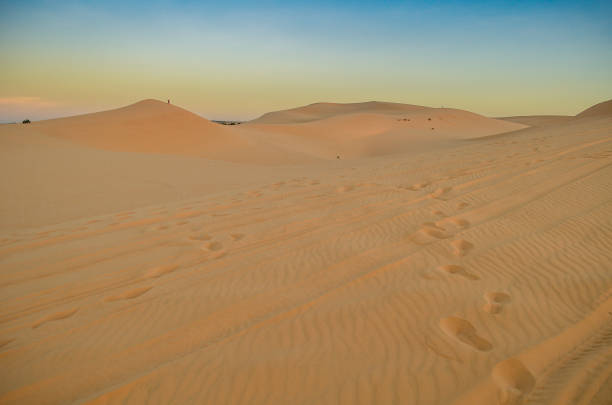human_footprint: (491, 358, 535, 404), (439, 316, 492, 350), (412, 212, 469, 243), (423, 336, 462, 362), (32, 308, 78, 328), (411, 222, 451, 244), (104, 286, 152, 301), (436, 264, 479, 280), (435, 216, 470, 235), (483, 292, 510, 313), (437, 216, 469, 231), (145, 264, 178, 277), (202, 241, 226, 258), (450, 239, 473, 256), (429, 187, 452, 200), (402, 181, 429, 190), (202, 241, 222, 251), (114, 211, 135, 220), (188, 233, 211, 240), (0, 338, 14, 349), (336, 184, 354, 192), (211, 250, 226, 259), (270, 181, 286, 189), (151, 223, 169, 230), (431, 209, 446, 217), (229, 233, 244, 241), (85, 219, 102, 225), (456, 201, 468, 209), (209, 212, 231, 216), (174, 220, 189, 225), (308, 179, 319, 185)
